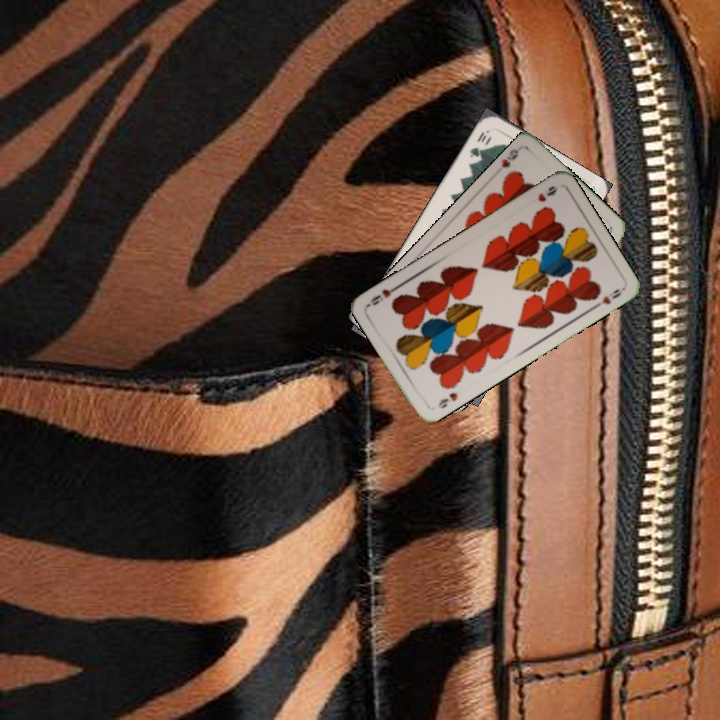G10: (466, 126, 492, 160)
H9: (497, 145, 521, 170), (434, 388, 460, 411), (534, 182, 560, 204)
